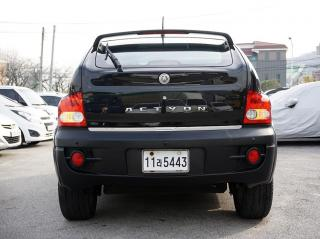1: (144, 156, 150, 168), (150, 157, 156, 168)
3: (181, 156, 187, 168)
4: (169, 156, 176, 168), (176, 156, 181, 168)
5: (163, 156, 169, 168)
라: (156, 158, 163, 168)
